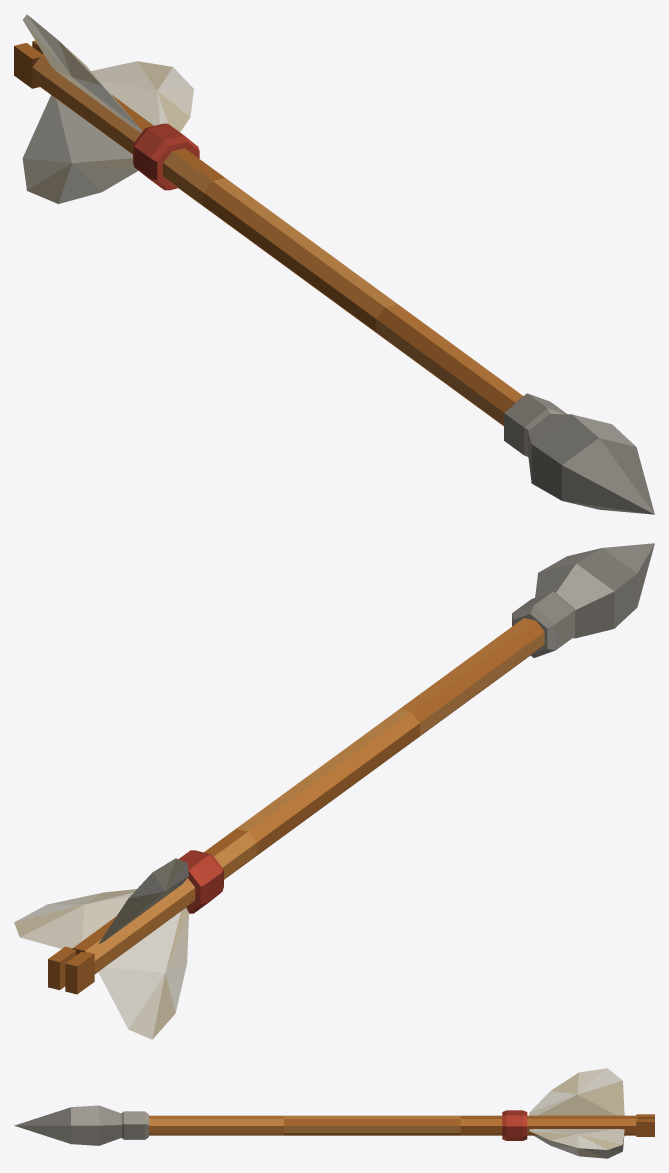
The model's file is arrow_twig.glb.
The picture shows the model from 3 angles, top to bottom: view 1: azimuth 30°, elevation 25°; view 2: azimuth 150°, elevation 25°; view 3: azimuth 270°, elevation 25°; orthographic projection. The views are drawn at different scales.
Visible parts, largest first — view 1: SM_Arrow_twig; view 2: SM_Arrow_twig; view 3: SM_Arrow_twig.
Boxes of the visible parts, x1,y1,x2,y2 form: SM_Arrow_twig: (14, 14, 654, 514); SM_Arrow_twig: (14, 543, 654, 1039); SM_Arrow_twig: (14, 1068, 654, 1158).
Size of the model in its own units: 0.0833 by 0.0961 by 0.617.
